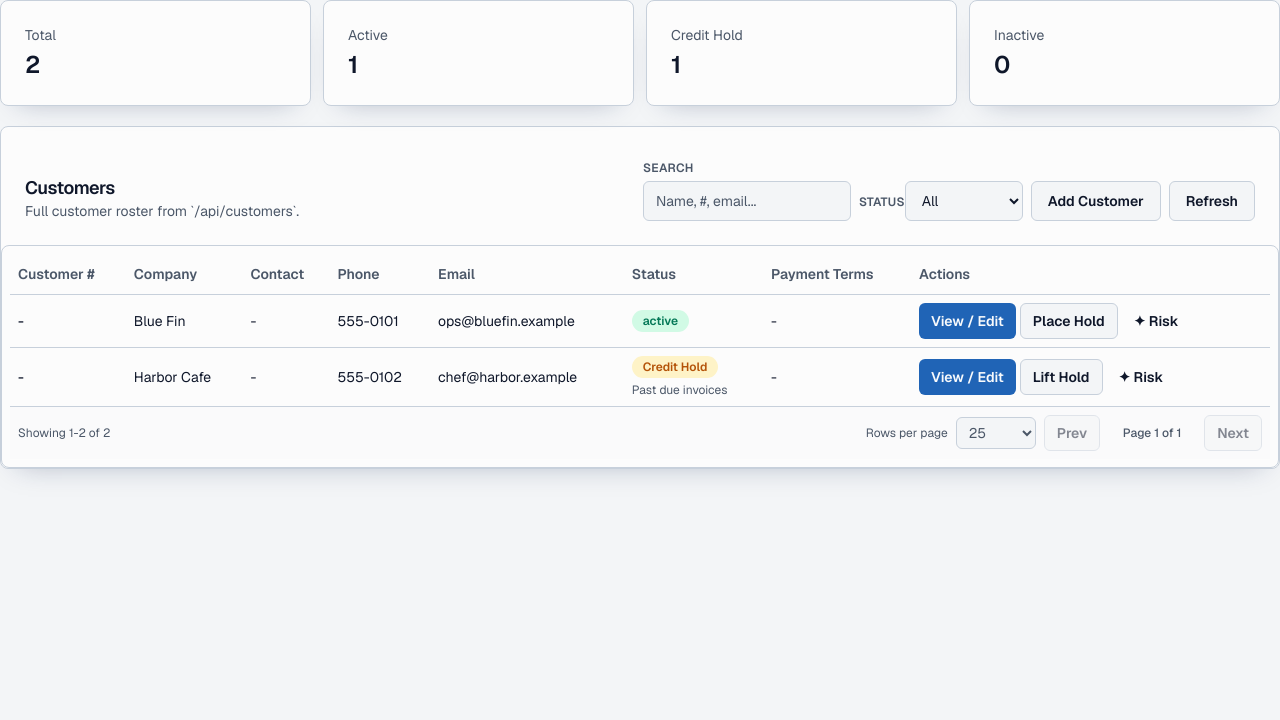
Scenario: CustomersPage › deletes a customer from the edit panel and reloads the list
This screenshot has width=1280, height=720.
Click the button "View / Edit" in the row of "Blue Fin".
click(967, 320)  # box 919,302 -> 1016,338
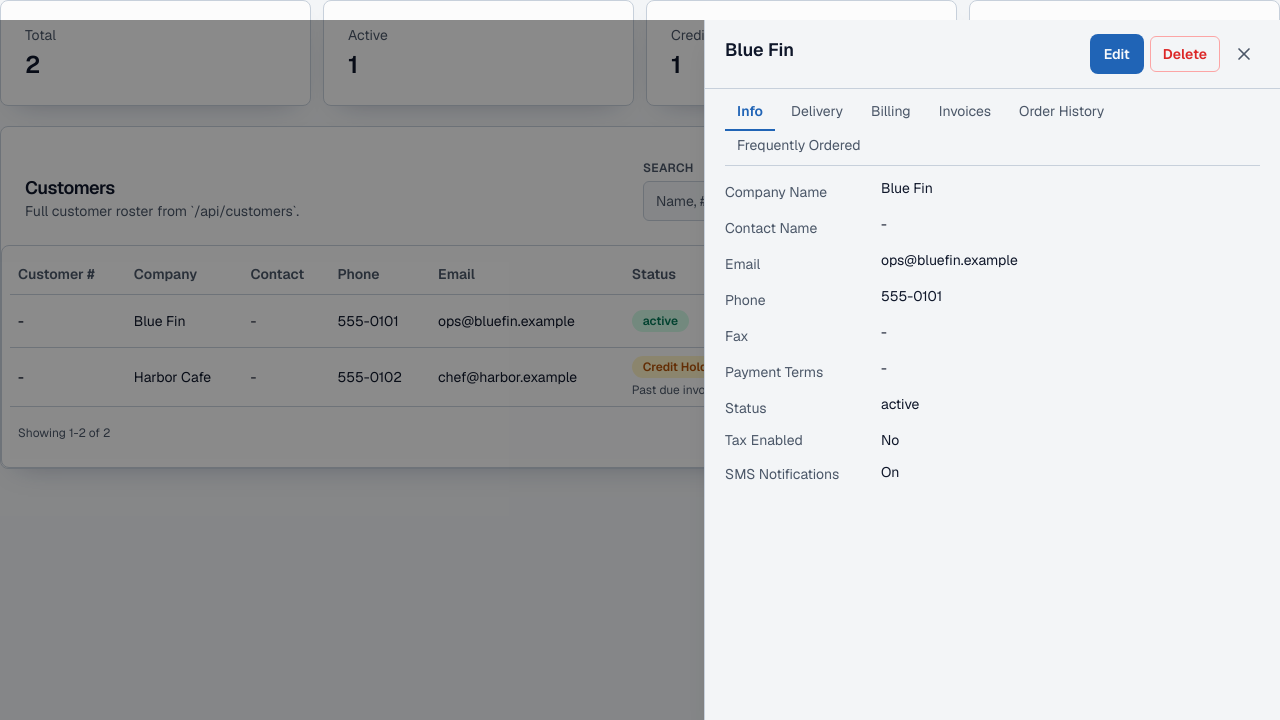
Expected: the heading "Blue Fin" is shown, 725,36 -> 794,64
Click the button "Delete".
click(1185, 54)  # box 1150,36 -> 1220,72
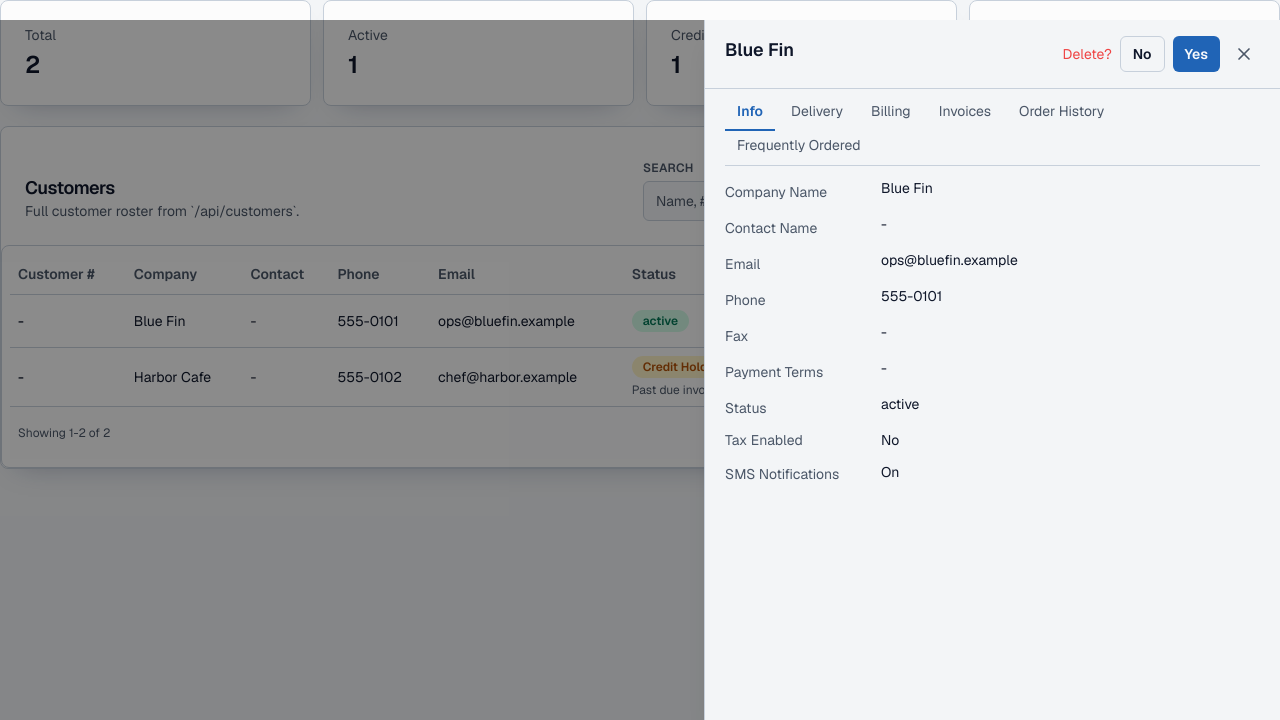
Expected: the text "Delete?" is shown, 1063,44 -> 1112,64
Click the button "Yes".
click(1196, 54)  # box 1172,36 -> 1220,72
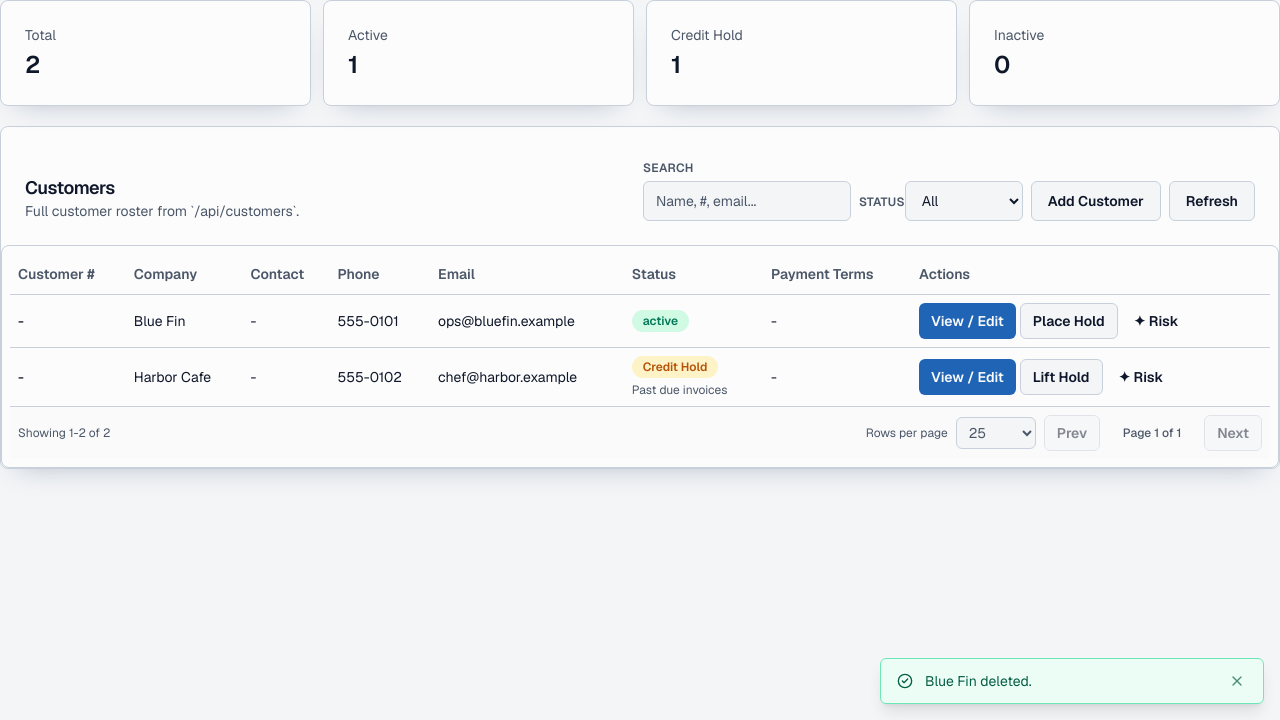
Expected: the text "Blue Fin deleted." is shown, 925,672 -> 1032,690
